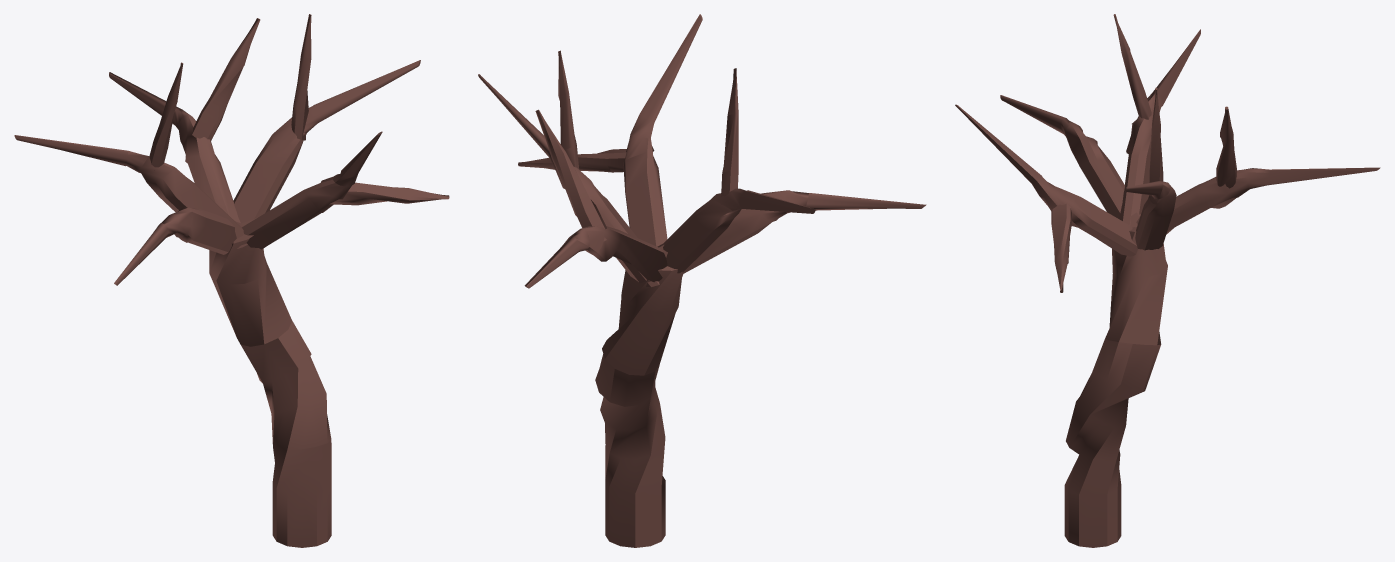
The model's file is trre1zee.fbx.
3 views of the same model, side by side, from view 1: azimuth 30°, elevation 25°; view 2: azimuth 150°, elevation 25°; view 3: azimuth 270°, elevation 25° (orthographic). The views are drawn at different scales.
Visible parts, largest first — view 1: polySurface75; view 2: polySurface75; view 3: polySurface75.
Part boxes in pixels (box(x1,y1,x2,y2)): polySurface75: box(14, 14, 449, 547); polySurface75: box(478, 14, 926, 547); polySurface75: box(955, 14, 1380, 547).
Bounding box in the file's own units: 14.57 × 18.36 × 15.06.
